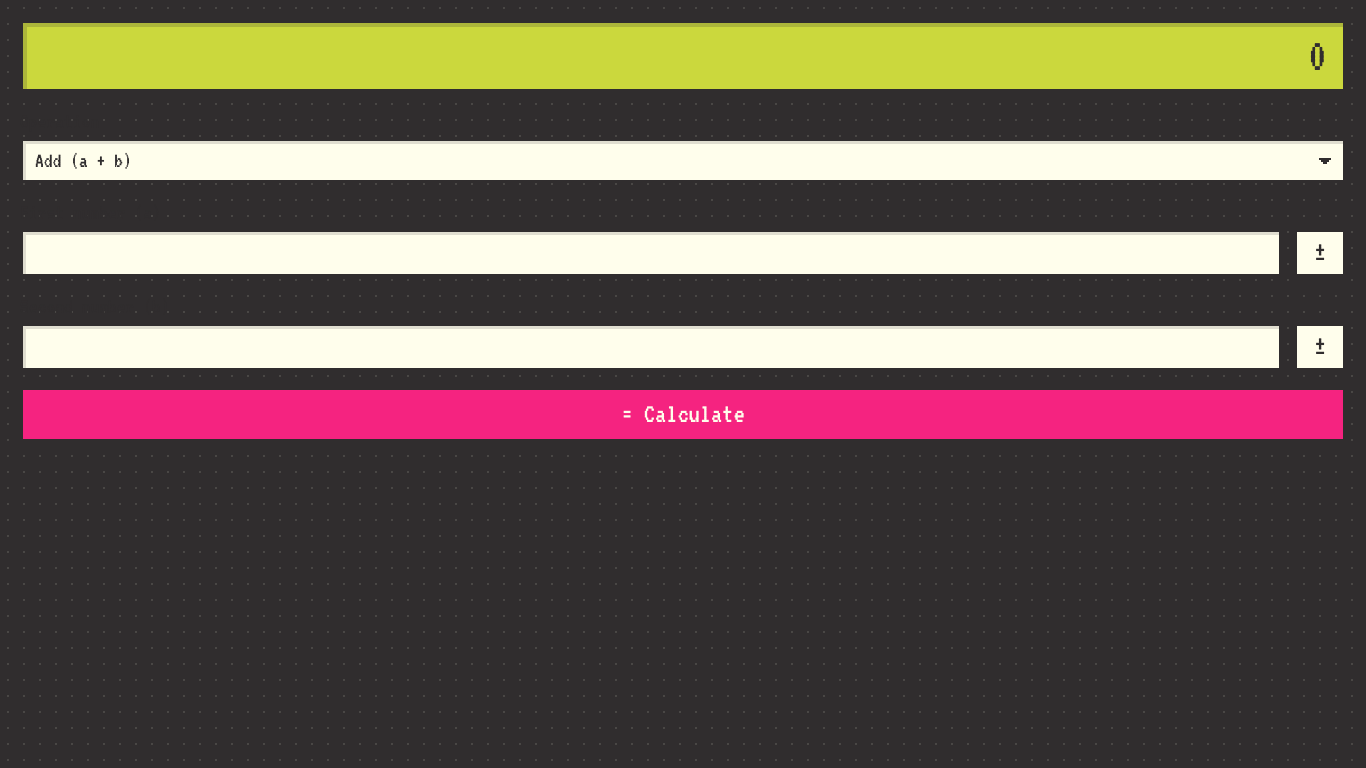
Test: Calculator › shows the error returned by the API
The width and height of the screenshot is (1366, 768).
Type "1" into the field labelled "First number (a)" at x=651, y=253, box [20, 229, 1282, 277]
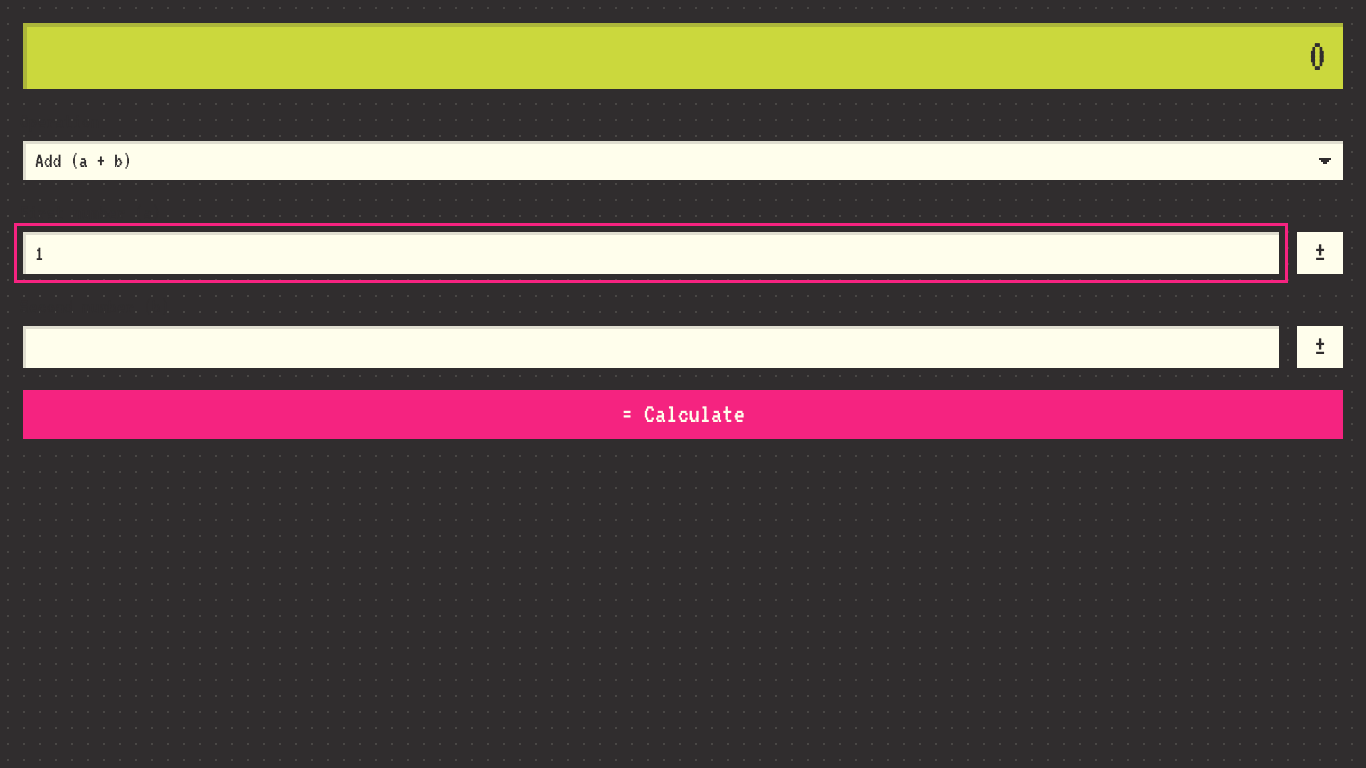
Type "0" into the field labelled "Second number (b)" at x=651, y=347, box [20, 323, 1282, 371]
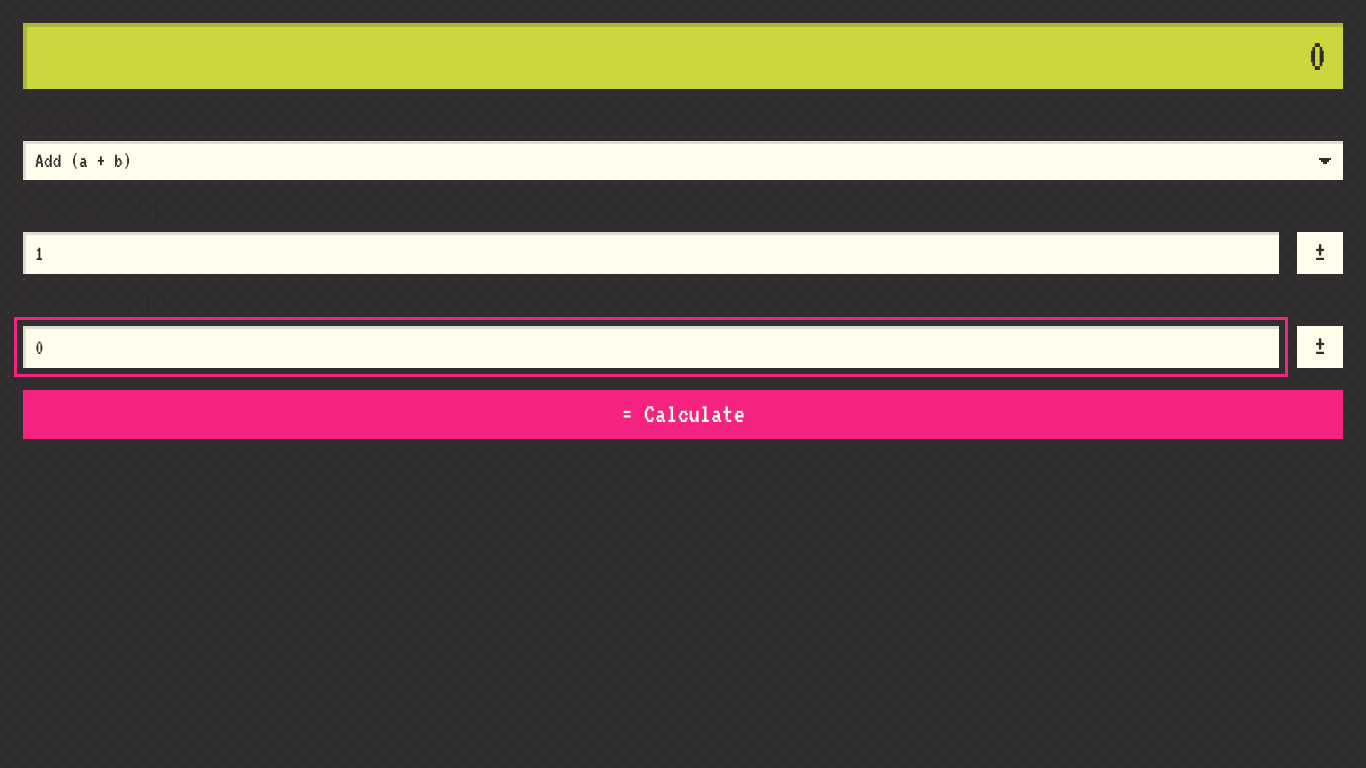
Click the button "= Calculate" at x=683, y=415, box [20, 387, 1346, 442]
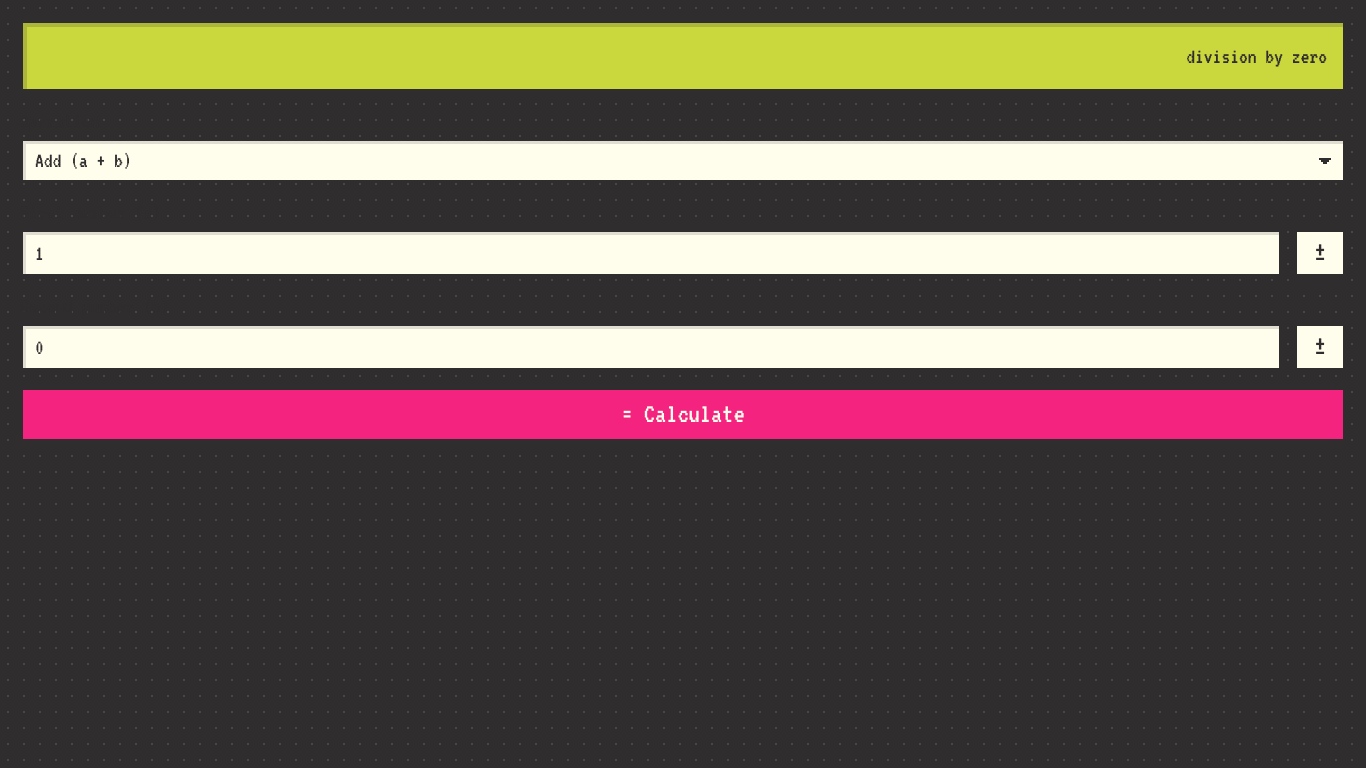
Result: the message reads "division by zero" at [1186, 45, 1327, 67]
